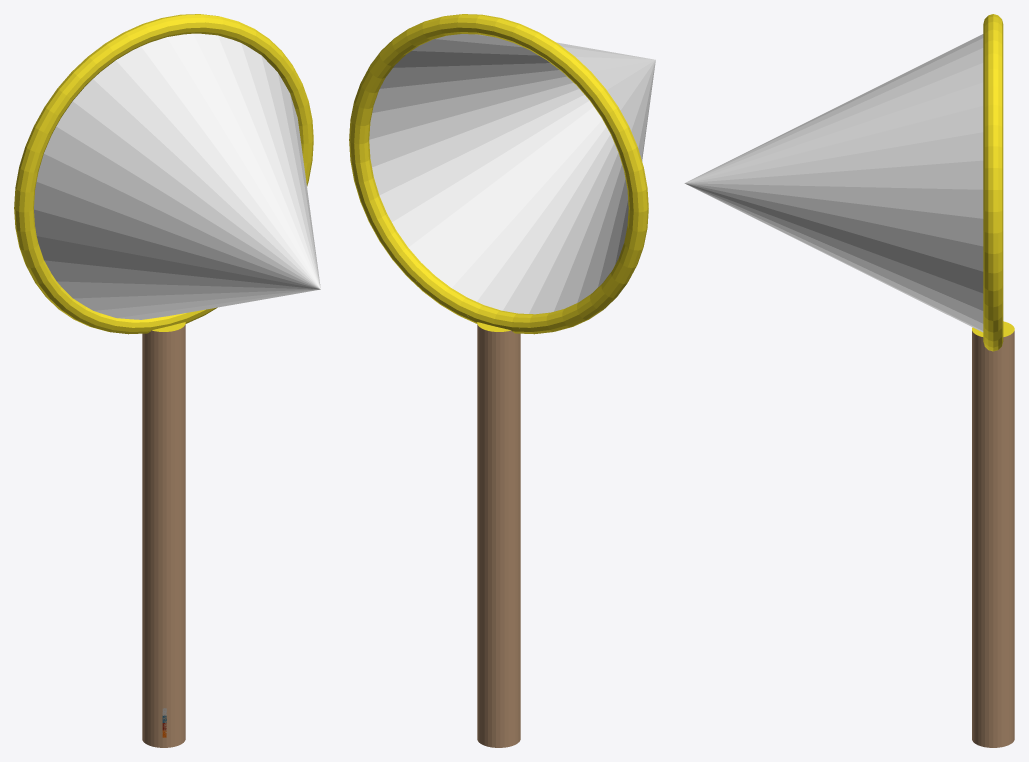
The model's file is net.glb.
The picture shows the model from 3 angles, left to right: view 1: azimuth 30°, elevation 25°; view 2: azimuth 150°, elevation 25°; view 3: azimuth 270°, elevation 25°; orthographic projection.
Visible parts, largest first — view 1: Cylinder; view 2: Cylinder; view 3: Cylinder.
Part boxes in pixels (x1,y1,x2,y2): Cylinder: (14,14,320,747); Cylinder: (349,14,655,747); Cylinder: (684,14,1014,747).
Size of the model in its own units: 1.7 by 3.94 by 1.66.
1 material, 1 textured.
